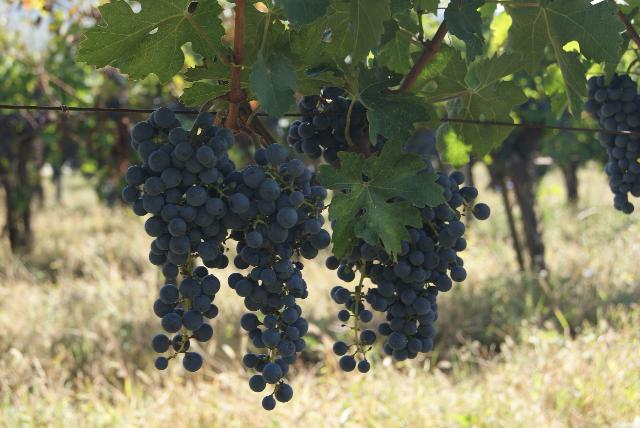grapes: (122, 106, 254, 371), (234, 144, 329, 410), (366, 171, 490, 361), (585, 74, 640, 214)
